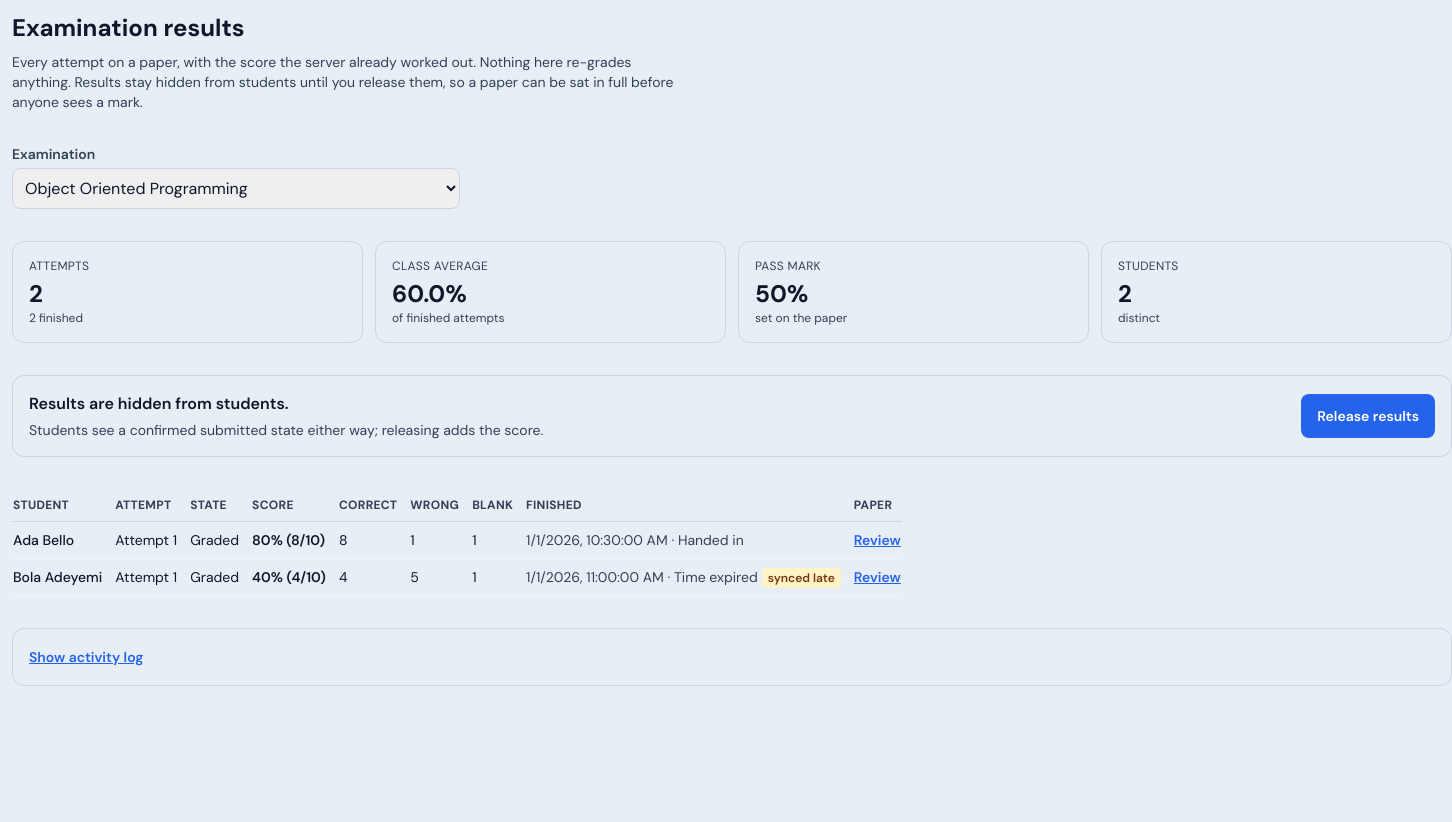
Test case: AcademyAdminExamResults deep link and activity log › shows what the engine recorded, in its own wording
The width and height of the screenshot is (1452, 822).
Check: the text "Ada Bello" is shown, box [12, 522, 114, 558]
Click the button "Show activity log" at [86, 657], box [29, 647, 143, 667]
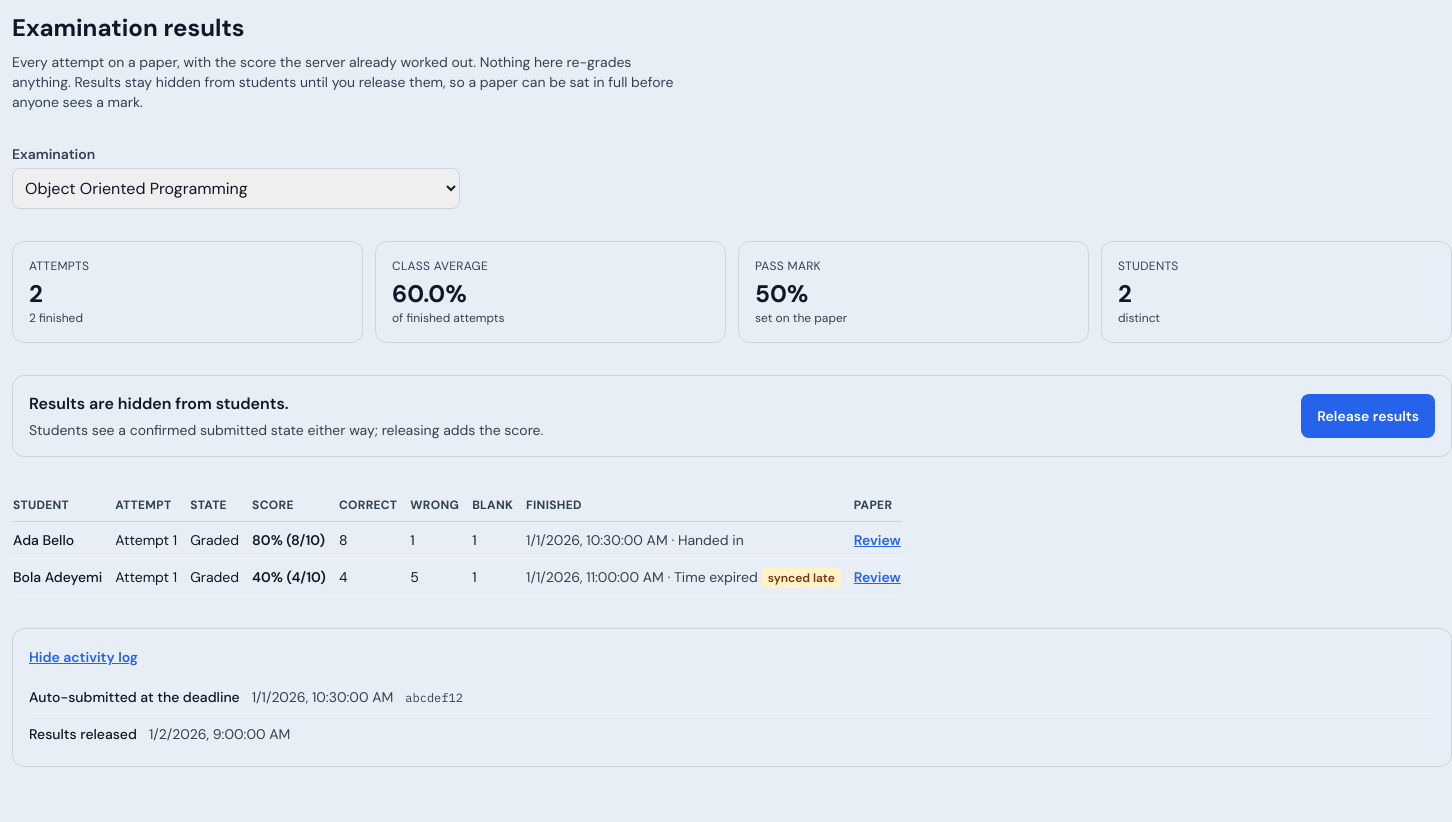
Check: the text "Auto-submitted at the deadline" is shown, box [29, 687, 240, 707]
Check: the text "Results released" is shown, box [29, 724, 137, 744]
